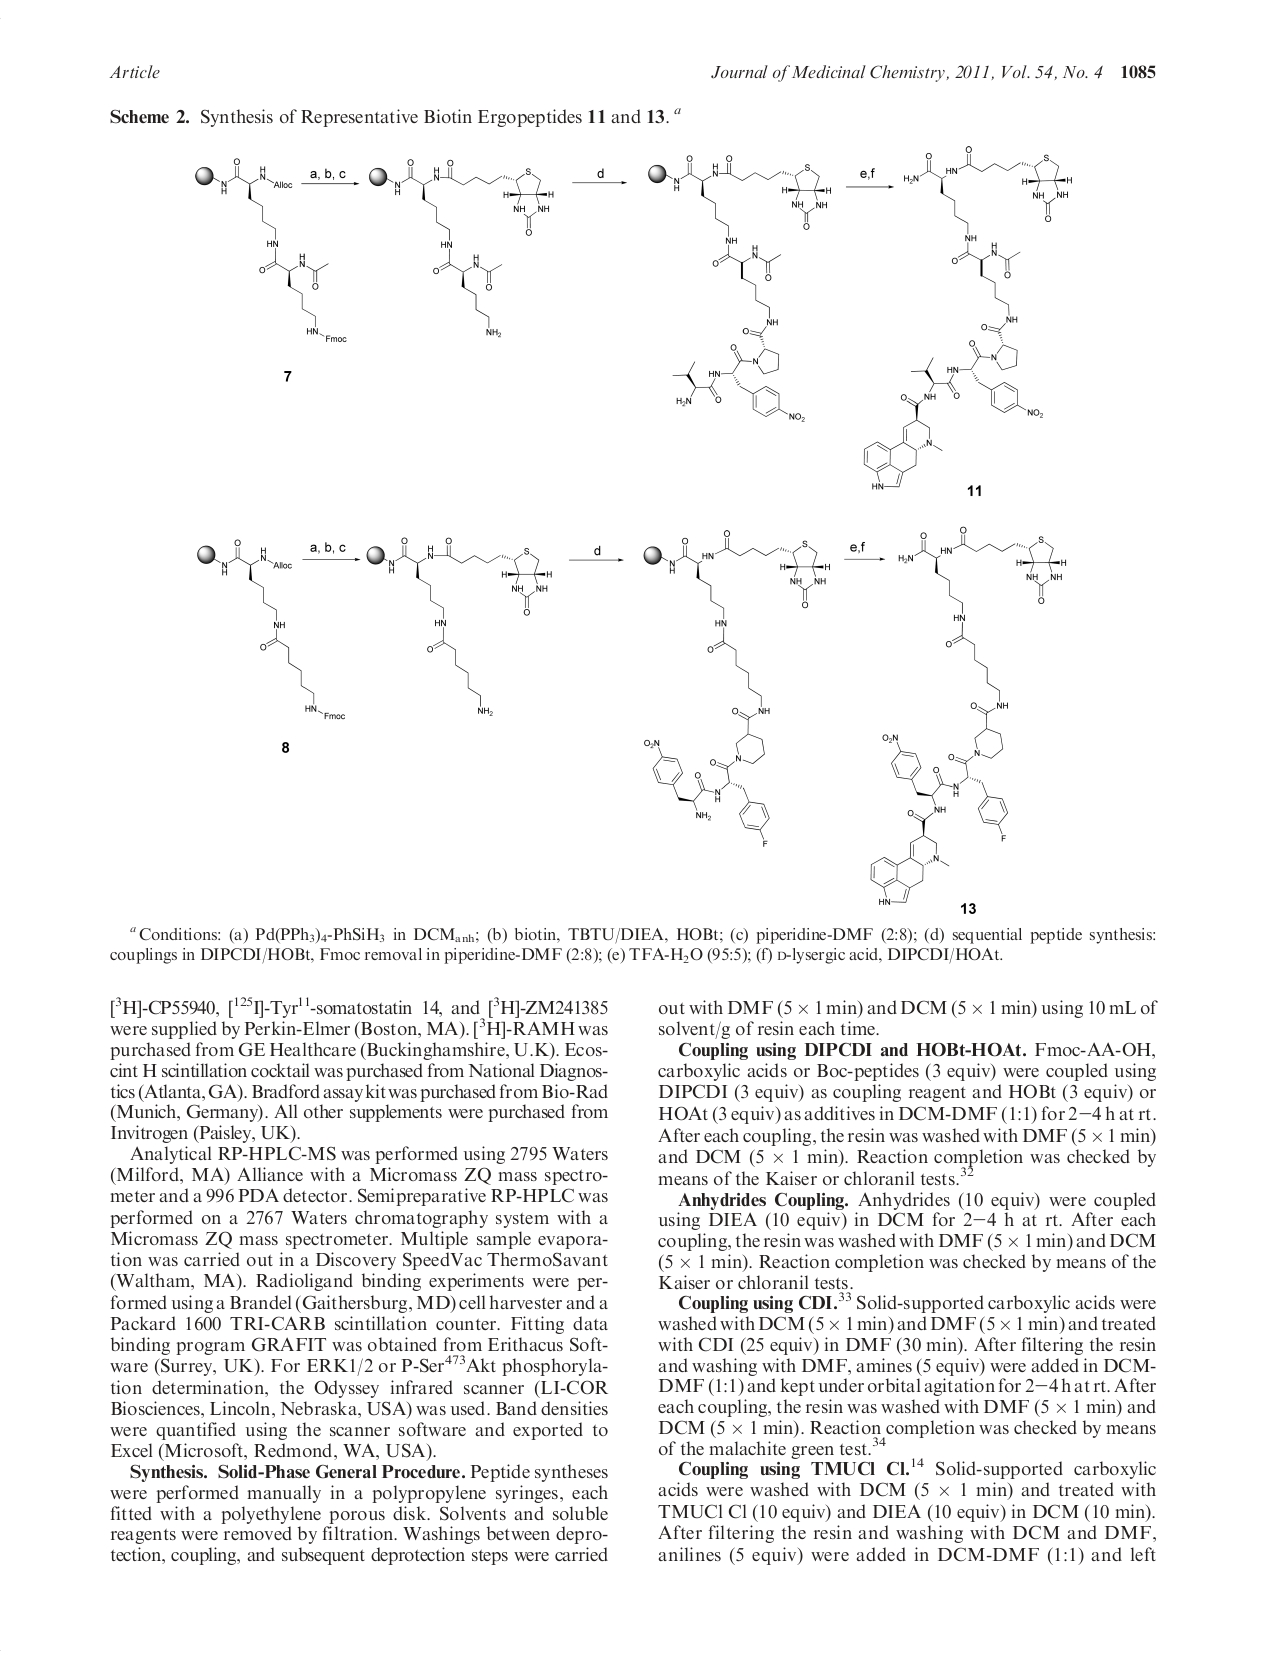exist_molecular: (866, 524, 1071, 907), (863, 144, 1076, 492), (633, 528, 830, 848), (646, 153, 832, 426), (363, 535, 556, 719), (364, 156, 559, 338), (191, 154, 348, 347), (195, 536, 346, 723)
